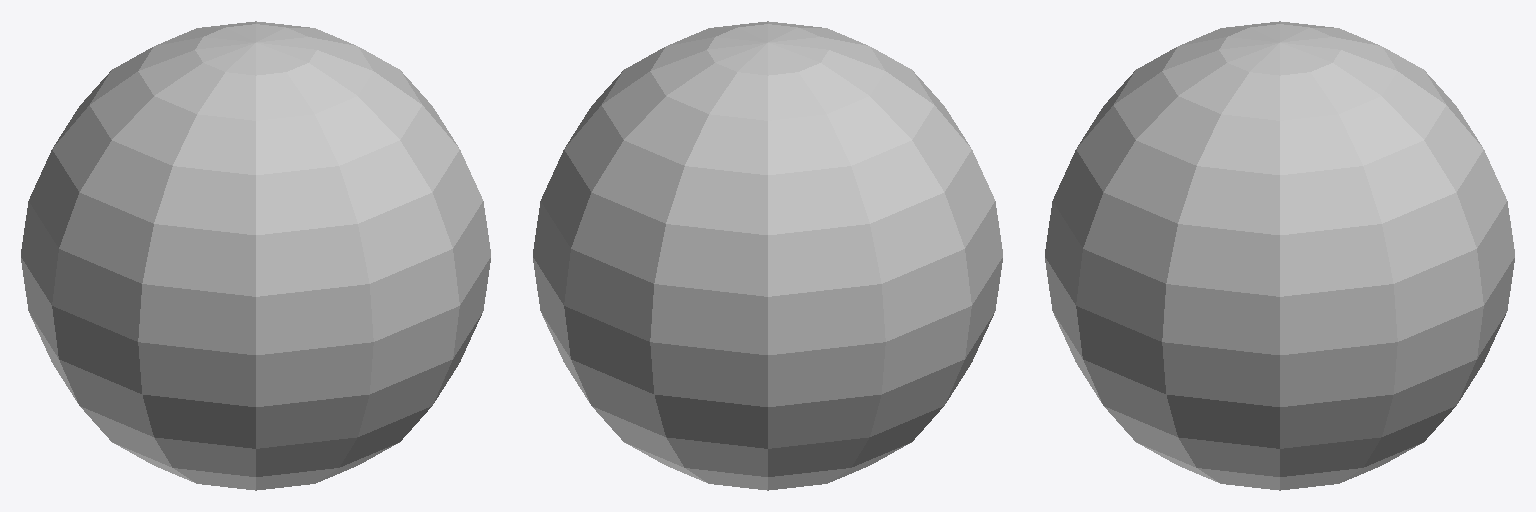
File: skybox.obj
The picture shows the model from 3 angles: view 1: azimuth 30°, elevation 25°; view 2: azimuth 150°, elevation 25°; view 3: azimuth 270°, elevation 25°; orthographic projection.
Visible parts, largest first — view 1: skybox1; view 2: skybox1; view 3: skybox1.
Part boxes in pixels (bbox=[...]): skybox1: bbox=[21, 21, 490, 490]; skybox1: bbox=[533, 21, 1002, 490]; skybox1: bbox=[1045, 21, 1514, 490].
Size of the model in its own units: 10000 by 10000 by 10000.